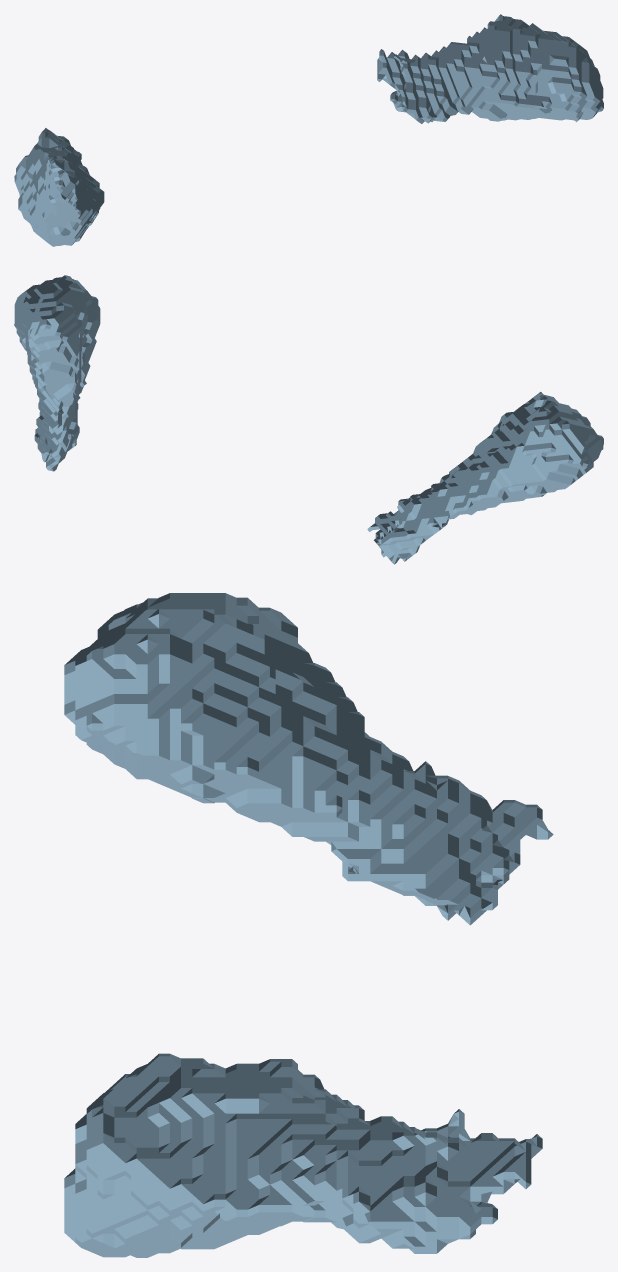
Rendered from region_0196_X__vagal_nerve_.glb.
3 views of the same model, one above another, from view 1: azimuth 30°, elevation 25°; view 2: azimuth 150°, elevation 25°; view 3: azimuth 270°, elevation 25° (orthographic). The views are drawn at different scales.
Parts seen in each view (by area): view 1: world; view 2: world; view 3: world.
Boxes of the visible parts, box(x1,y1,x2,y2) form: world: box(14, 14, 603, 246); world: box(14, 275, 603, 564); world: box(64, 593, 553, 1257).
Bounding box in the file's own units: 0.952 × 0.208 × 0.352.
